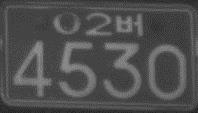0: (147, 43, 187, 101), (53, 10, 81, 35)
2: (85, 11, 113, 37)
3: (102, 40, 142, 99)
4: (11, 39, 53, 98)
5: (58, 40, 98, 98)
버: (115, 13, 144, 37)
